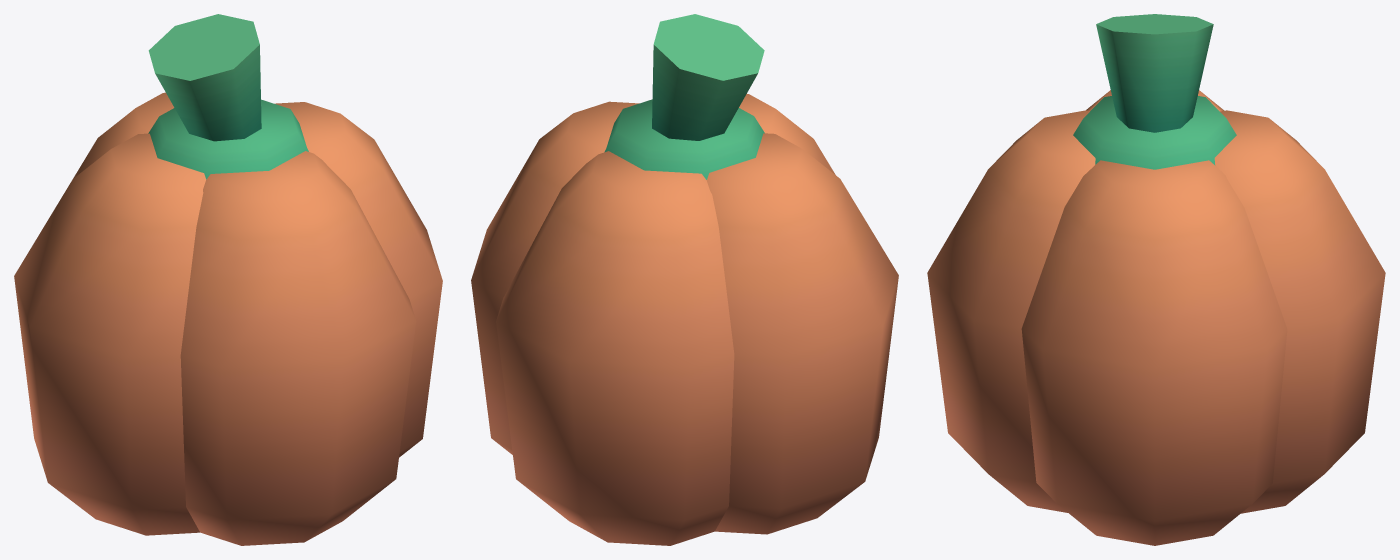
The model's file is k-graveyard-pumpkin-tall.glb.
3 renders of one model, left to right at view 1: azimuth 30°, elevation 25°; view 2: azimuth 150°, elevation 25°; view 3: azimuth 270°, elevation 25°, orthographic.
Parts seen in each view (by area): view 1: pumpkin-tall; view 2: pumpkin-tall; view 3: pumpkin-tall.
Boxes of the visible parts, x1,y1,x2,y2 form: pumpkin-tall: [14, 14, 442, 545]; pumpkin-tall: [471, 14, 898, 545]; pumpkin-tall: [927, 14, 1385, 545].
Bounding box in the file's own units: 0.3255 × 0.3597 × 0.3255.
Materials: 1 (1 with a texture image).
